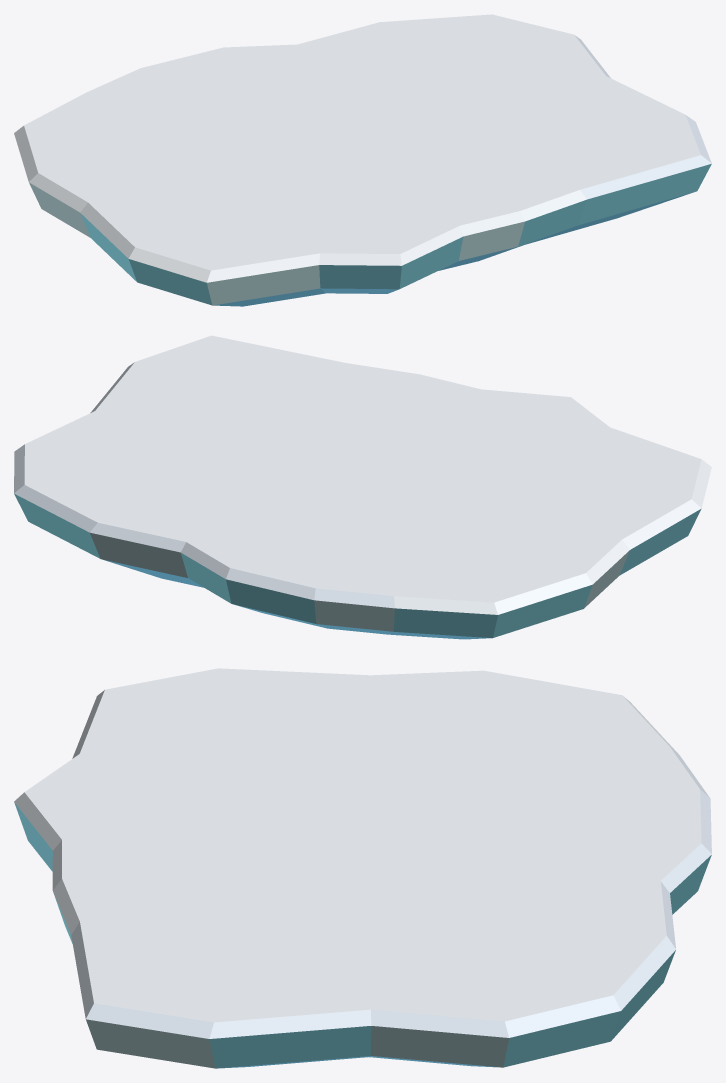
Rendered from Iceberg.glb.
The picture shows the model from 3 angles, top to bottom: view 1: azimuth 30°, elevation 25°; view 2: azimuth 150°, elevation 25°; view 3: azimuth 270°, elevation 25°; orthographic projection. The views are drawn at different scales.
Parts seen in each view (by area): view 1: Iceberg; view 2: Iceberg; view 3: Iceberg.
Boxes of the visible parts, x1,y1,x2,y2 form: Iceberg: (14, 14, 711, 306); Iceberg: (14, 335, 711, 639); Iceberg: (14, 668, 711, 1068).
Size of the model in its own units: 23.66 by 4.75 by 19.11.
